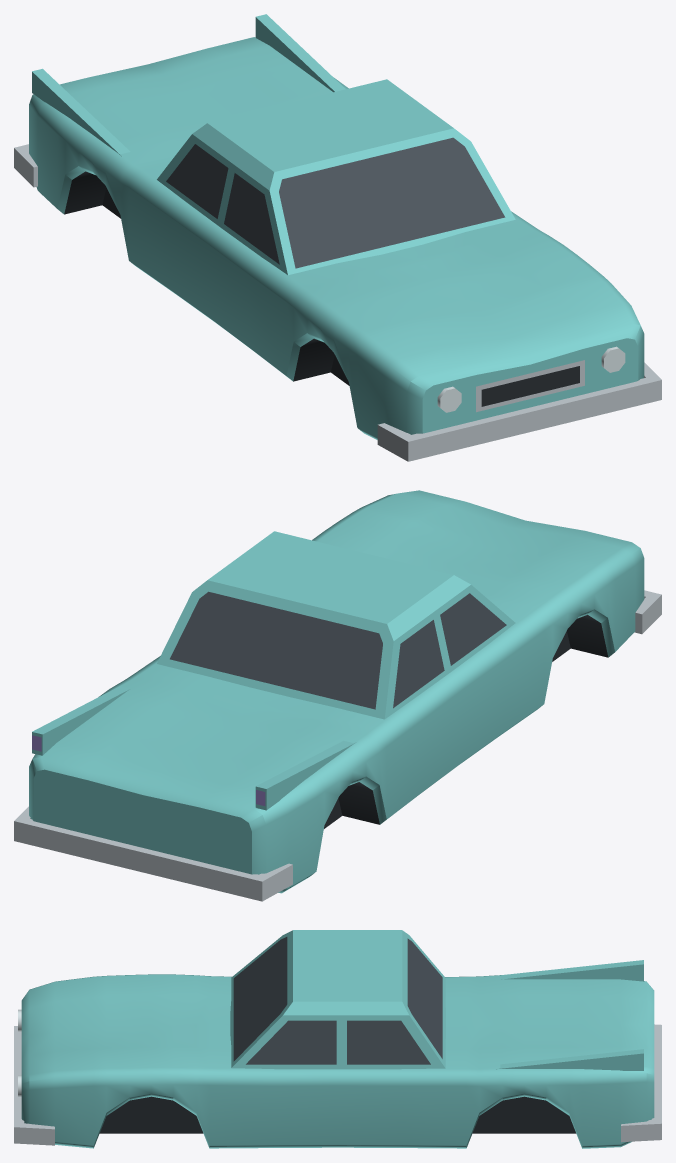
File: SM_Car_Sedan.obj
3 renders of one model, top to bottom at view 1: azimuth 30°, elevation 25°; view 2: azimuth 150°, elevation 25°; view 3: azimuth 270°, elevation 25°, orthographic. The views are drawn at different scales.
Visible parts, largest first — view 1: Body; view 2: Body; view 3: Body.
Part boxes in pixels (bbox=[...]): Body: bbox=[14, 14, 661, 461]; Body: bbox=[14, 490, 661, 901]; Body: bbox=[14, 930, 661, 1148].
Bounding box in the file's own units: 1.94 × 1.15 × 5.04.
